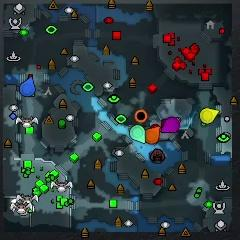p1: (20, 76, 36, 97)
p2: (130, 125, 146, 145)
p3: (161, 117, 180, 133)
p4: (200, 107, 220, 124)
p5: (145, 126, 160, 144)
p5Clone: (135, 109, 148, 122)
